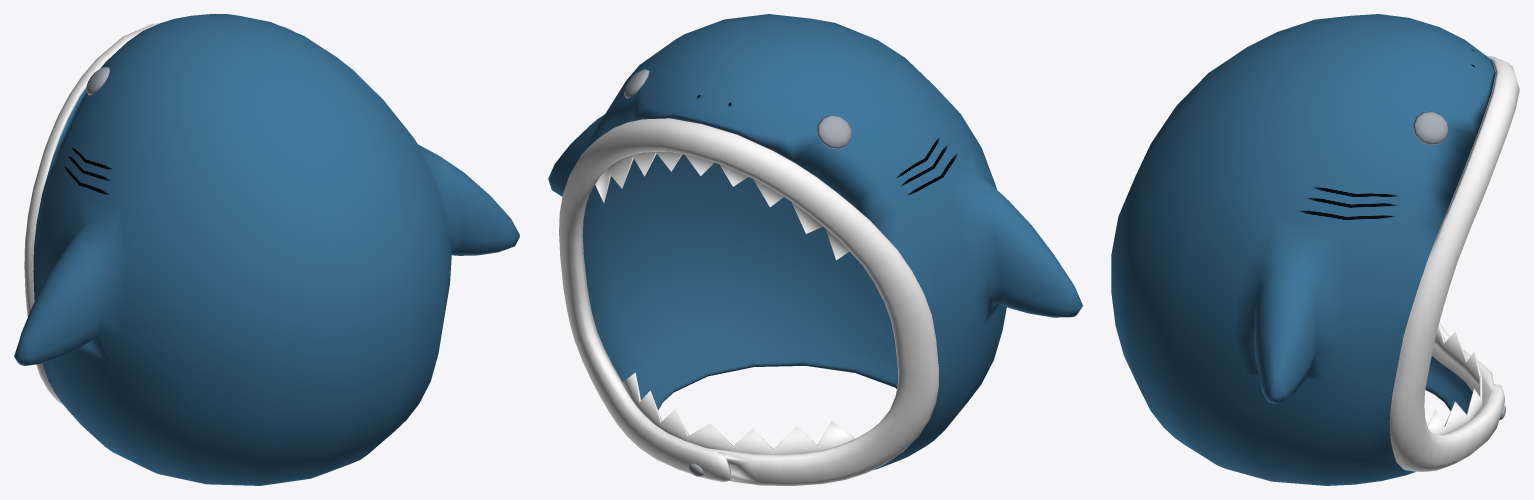
Rendered from tiburon.obj.
The picture shows the model from 3 angles, left to right: view 1: azimuth 30°, elevation 25°; view 2: azimuth 150°, elevation 25°; view 3: azimuth 270°, elevation 25°; orthographic projection. The views are drawn at different scales.
Visible parts, largest first — view 1: hood:Mesh; view 2: hood:Mesh; view 3: hood:Mesh.
Boxes of the visible parts, bbox=[...] form: hood:Mesh: bbox=[14, 14, 519, 485]; hood:Mesh: bbox=[548, 14, 1082, 485]; hood:Mesh: bbox=[1111, 14, 1519, 485].
Size of the model in its own units: 7.41 by 5.36 by 5.02.
1 material, 1 textured.
